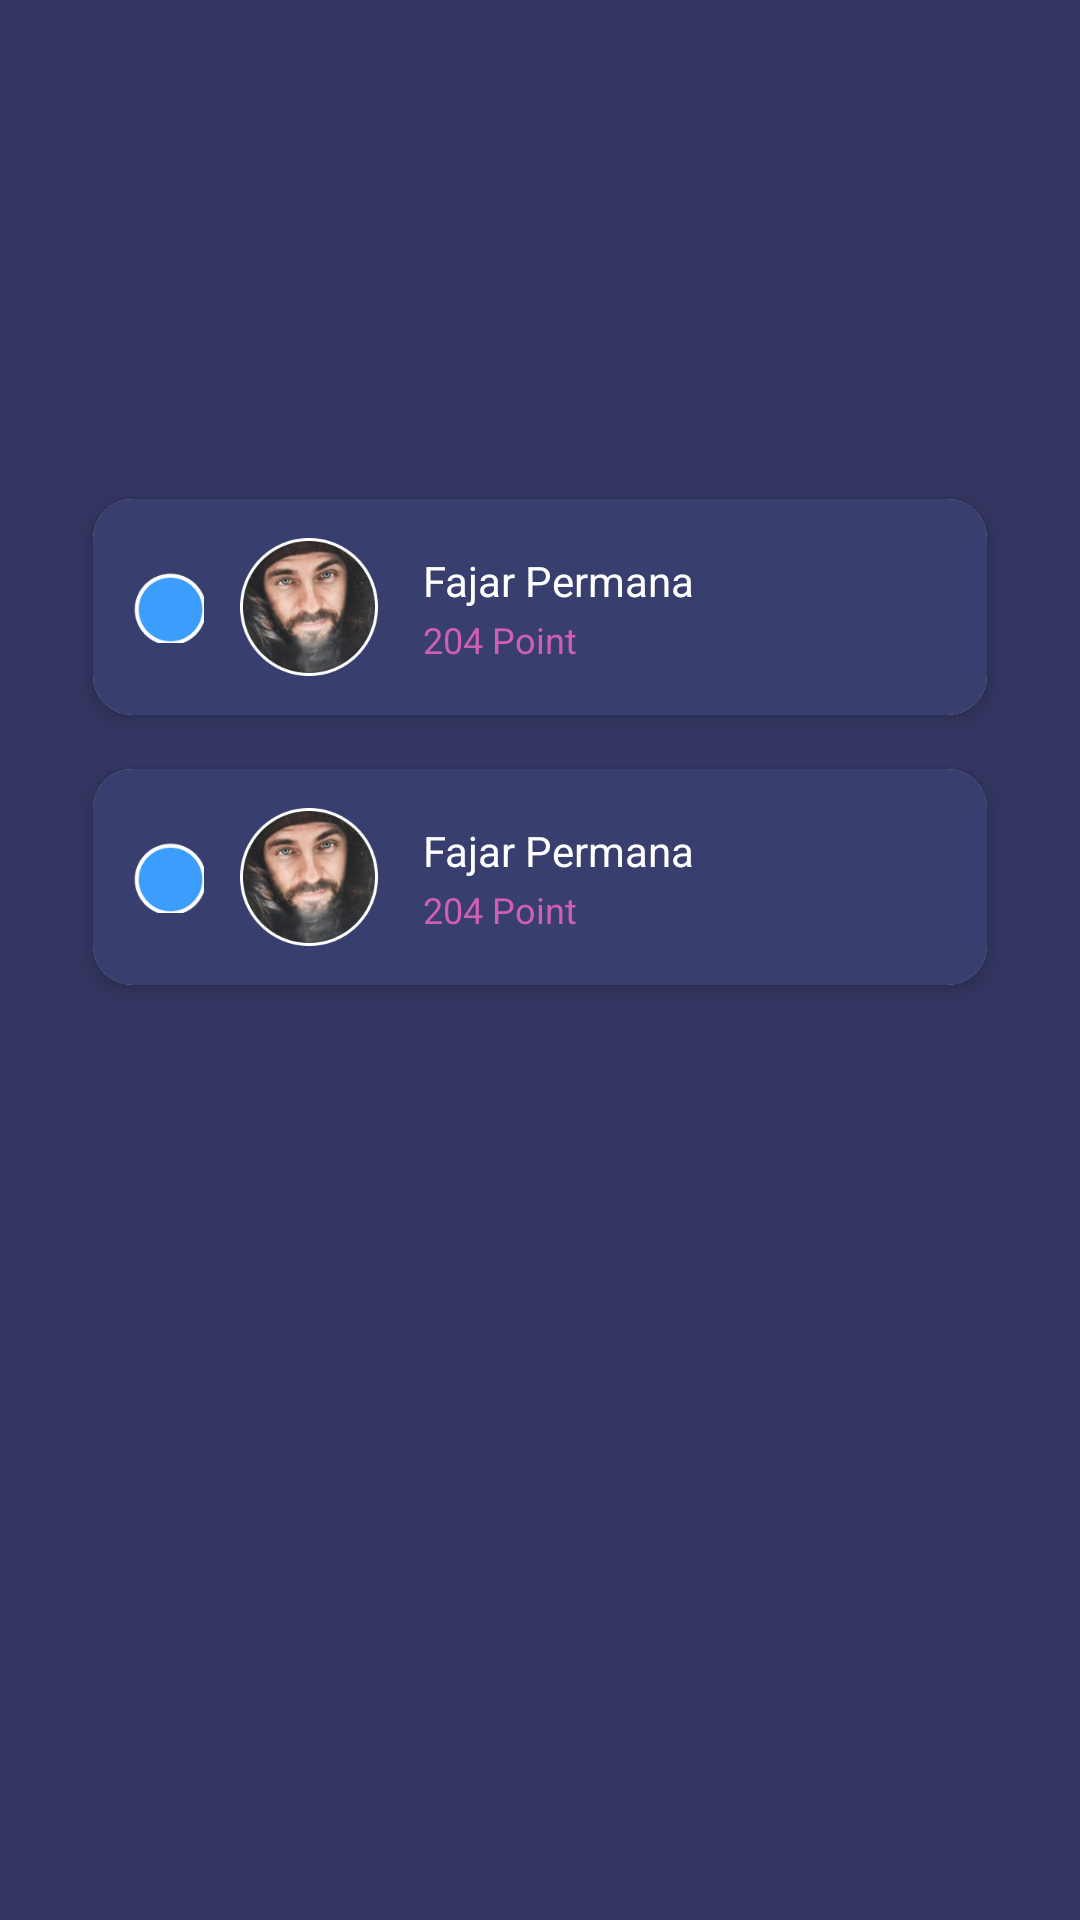

Where icons sit on this 1080x1920 app screen, as (x1, y1, x2, y2):
photoprofile: (240, 538, 378, 676), (240, 808, 378, 946)
